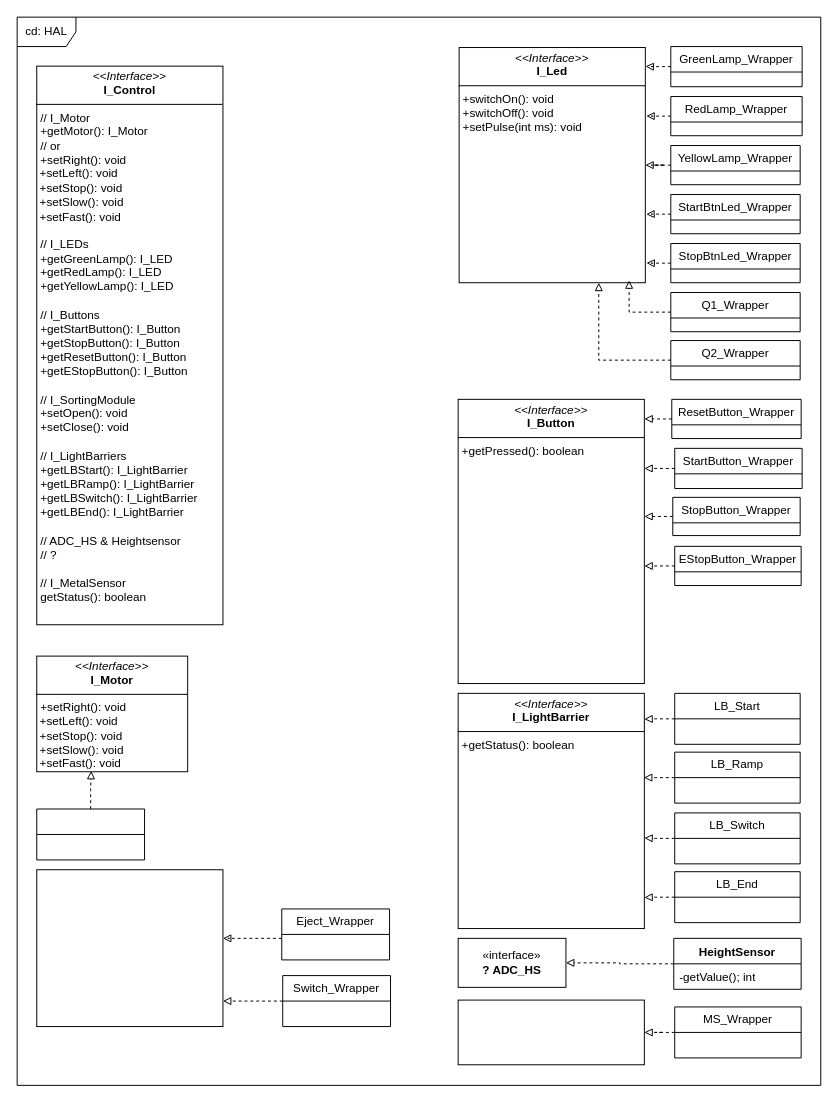
Some shapes in this 838 by 1103 pixel diagram are drawn without their labels. The centre of each missing label's shape, as x and y in pixels:
<<Interface>> I_MetalSensor +getStatus(): boolean: (x=550, y=1032)
<<Interface>> I_SortingModule +setOpen(): void +setClose(): void: (x=129, y=948)
Motor_Wrapper: (x=90, y=834)
